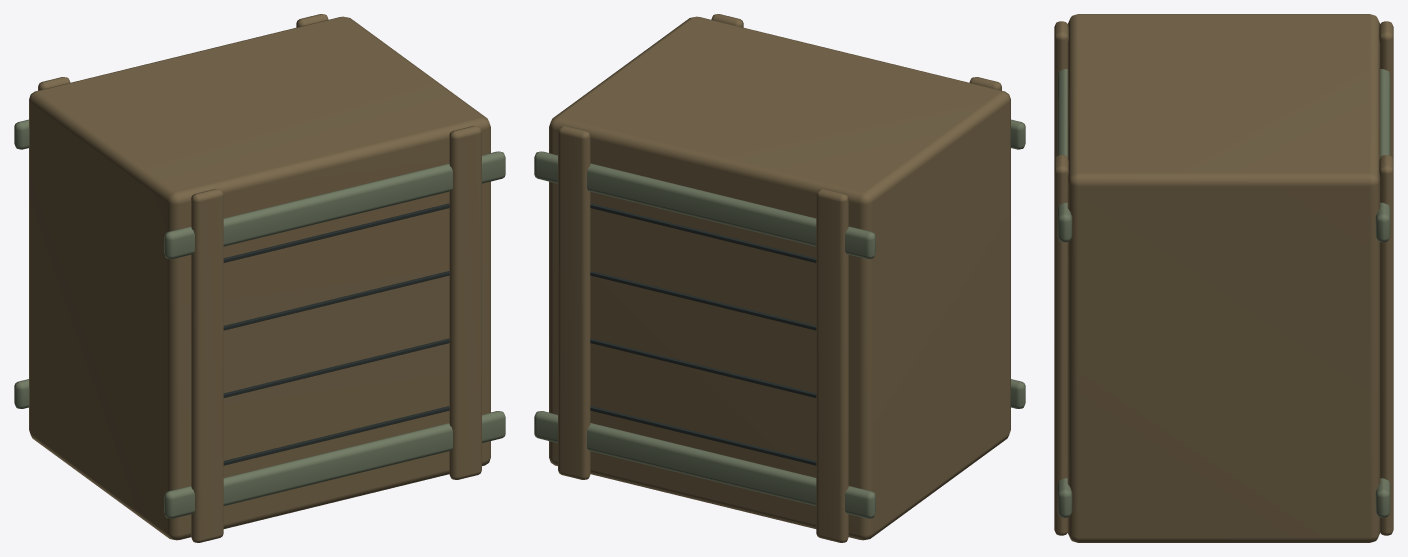
File: supply-crate.glb
3 renders of one model, left to right at view 1: azimuth 30°, elevation 25°; view 2: azimuth 150°, elevation 25°; view 3: azimuth 270°, elevation 25°, orthographic. The views are drawn at different scales.
Visible parts, largest first — view 1: crate_body, crate_upright, crate_upright.001, crate_band.001, crate_band, plank_gap.002, plank_gap.004, plank_gap.006, plank_gap; view 2: crate_body, crate_upright.002, crate_upright.003, crate_band.003, crate_band.002, plank_gap.003, plank_gap.005, plank_gap.007, plank_gap.001; view 3: crate_body, crate_upright.001, crate_upright.003, crate_band.001, crate_band.003, crate_upright, crate_upright.002, crate_band, crate_band.002.
Boxes of the visible parts, <box> form: crate_body: <box>29,16,490,540</box>; crate_upright: <box>191,189,223,542</box>; crate_upright.001: <box>449,126,481,479</box>; crate_band.001: <box>164,151,505,259</box>; crate_band: <box>164,411,505,518</box>; plank_gap.002: <box>223,338,449,397</box>; plank_gap.004: <box>223,271,449,330</box>; plank_gap.006: <box>223,203,449,262</box>; plank_gap: <box>223,406,449,465</box>; crate_body: <box>549,16,1010,540</box>; crate_upright.002: <box>816,189,848,542</box>; crate_upright.003: <box>558,126,590,479</box>; crate_band.003: <box>534,151,875,259</box>; crate_band.002: <box>534,411,875,518</box>; plank_gap.003: <box>590,338,816,397</box>; plank_gap.005: <box>590,271,816,330</box>; plank_gap.007: <box>590,203,816,262</box>; plank_gap.001: <box>590,406,816,465</box>; crate_body: <box>1067,14,1380,542</box>; crate_upright.001: <box>1054,155,1068,535</box>; crate_upright.003: <box>1379,155,1393,535</box>; crate_band.001: <box>1057,69,1072,242</box>; crate_band.003: <box>1375,69,1390,242</box>; crate_upright: <box>1054,21,1068,159</box>; crate_upright.002: <box>1379,21,1393,159</box>; crate_band: <box>1057,478,1072,517</box>; crate_band.002: <box>1375,478,1390,517</box>.
Bounding box in the file's own units: 1 × 0.98 × 0.815.
